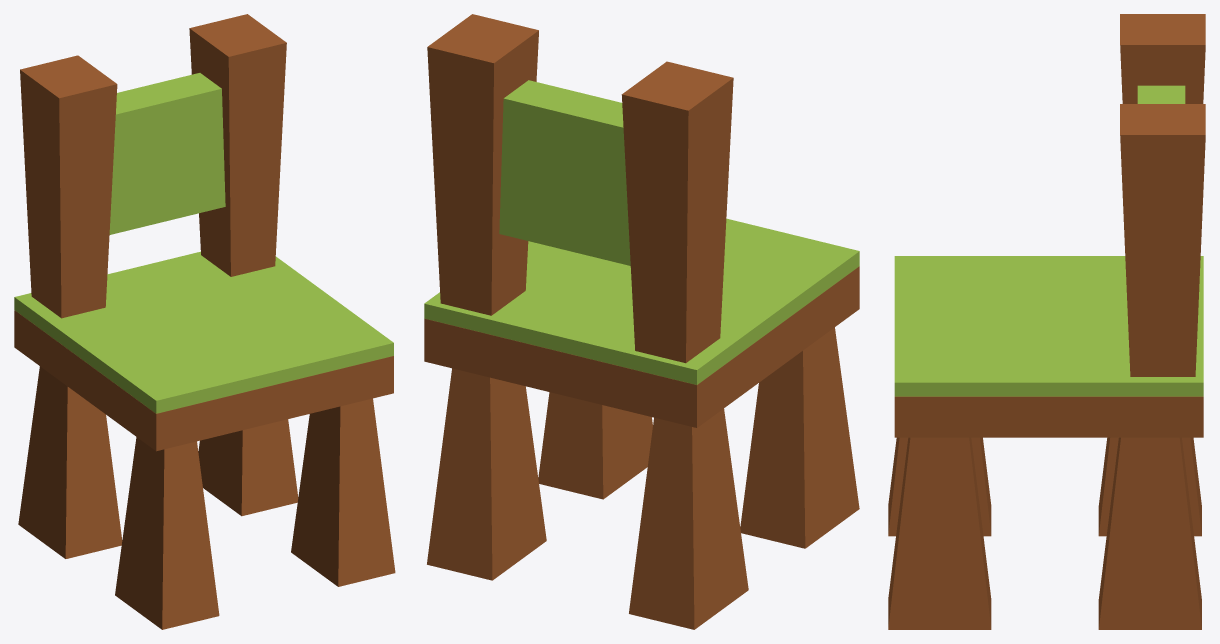
The model's file is Asset_chair.fbx.
3 views of the same model, side by side, from view 1: azimuth 30°, elevation 25°; view 2: azimuth 150°, elevation 25°; view 3: azimuth 270°, elevation 25° (orthographic). The views are drawn at different scales.
Parts seen in each view (by area): view 1: Cube.054, Cube.056, Cube.057, Cube.058, Cube.060, Cube.055; view 2: Cube.054, Cube.057, Cube.056, Cube.058, Cube.060, Cube.055; view 3: Cube.054, Cube.056, Cube.058, Cube.055, Cube.057, Cube.060.
Boxes of the visible parts, bbox=[...] form: Cube.054: bbox=[18, 366, 395, 629]; Cube.056: bbox=[14, 251, 393, 413]; Cube.057: bbox=[20, 55, 117, 318]; Cube.058: bbox=[189, 14, 286, 276]; Cube.060: bbox=[109, 73, 225, 234]; Cube.055: bbox=[14, 310, 393, 451]; Cube.054: bbox=[427, 327, 859, 629]; Cube.057: bbox=[621, 61, 733, 363]; Cube.056: bbox=[424, 218, 859, 384]; Cube.058: bbox=[427, 14, 538, 315]; Cube.060: bbox=[499, 80, 630, 265]; Cube.055: bbox=[424, 266, 859, 427]; Cube.054: bbox=[888, 437, 1201, 629]; Cube.056: bbox=[894, 256, 1203, 396]; Cube.058: bbox=[1120, 104, 1205, 376]; Cube.055: bbox=[894, 396, 1203, 437]; Cube.057: bbox=[1120, 14, 1205, 103]; Cube.060: bbox=[1137, 85, 1185, 103].
Size of the model in its own units: 23.54 by 42.86 by 24.99.
Materials: 3 (3 with a texture image).
